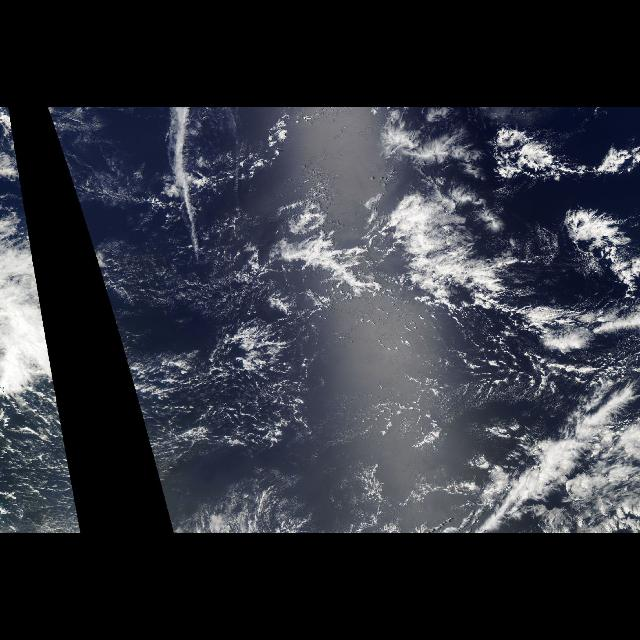Fish: (250, 195, 600, 345)
Gravel: (85, 214, 558, 532), (4, 376, 80, 532)
